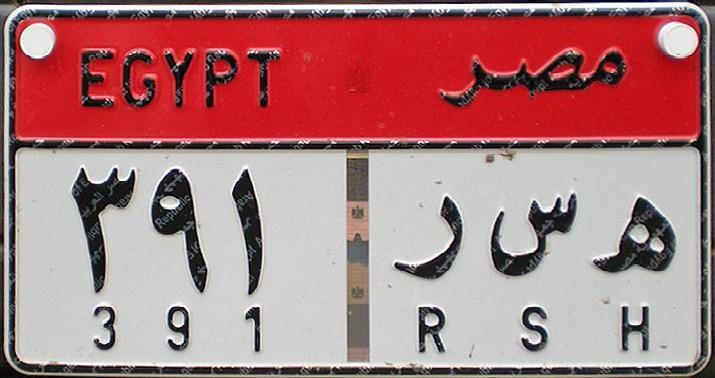1: (222, 160, 276, 300)
3: (61, 163, 142, 294)
9: (147, 164, 212, 299)
haa: (584, 194, 689, 288)
raa: (388, 191, 475, 286)
seen: (484, 191, 581, 281)
